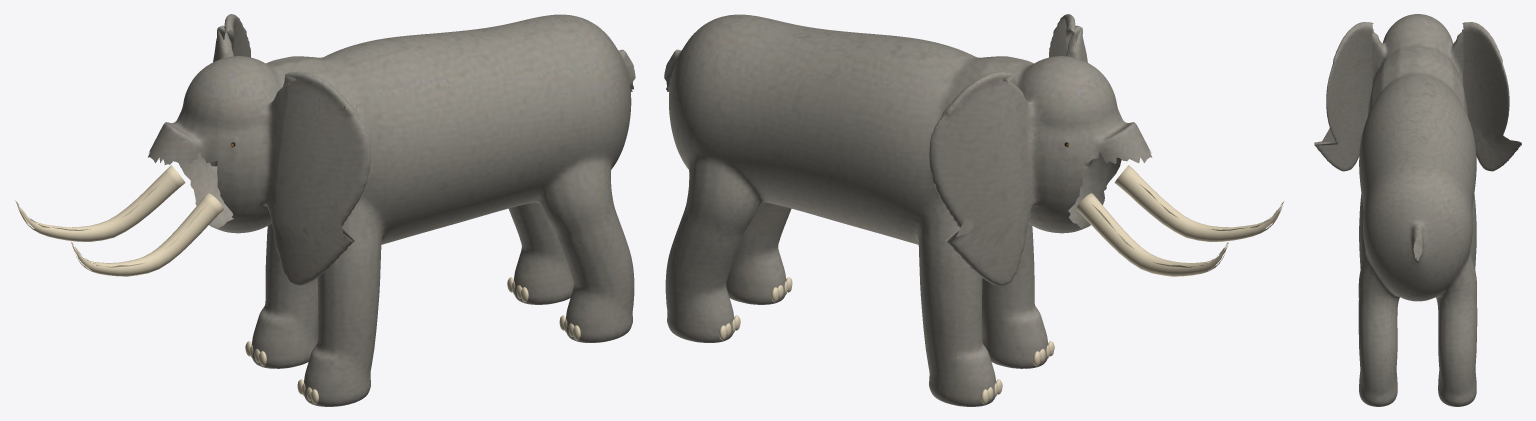
File: kerala-tusker-low.glb
The picture shows the model from 3 angles, left to right: view 1: azimuth 30°, elevation 25°; view 2: azimuth 150°, elevation 25°; view 3: azimuth 270°, elevation 25°; orthographic projection. The views are drawn at different scales.
Visible parts, largest first — view 1: Kerala tusker material 2, Kerala tusker material 3; view 2: Kerala tusker material 2, Kerala tusker material 3; view 3: Kerala tusker material 2.
Part boxes in pixels (x1,y1,x2,y2): Kerala tusker material 2: (148, 14, 635, 406); Kerala tusker material 3: (15, 145, 580, 404); Kerala tusker material 2: (664, 14, 1152, 406); Kerala tusker material 3: (719, 145, 1284, 404); Kerala tusker material 2: (1314, 14, 1521, 406).
Size of the model in its own units: 7.16 by 3.98 by 2.87.
Materials: 4 (4 with a texture image).
